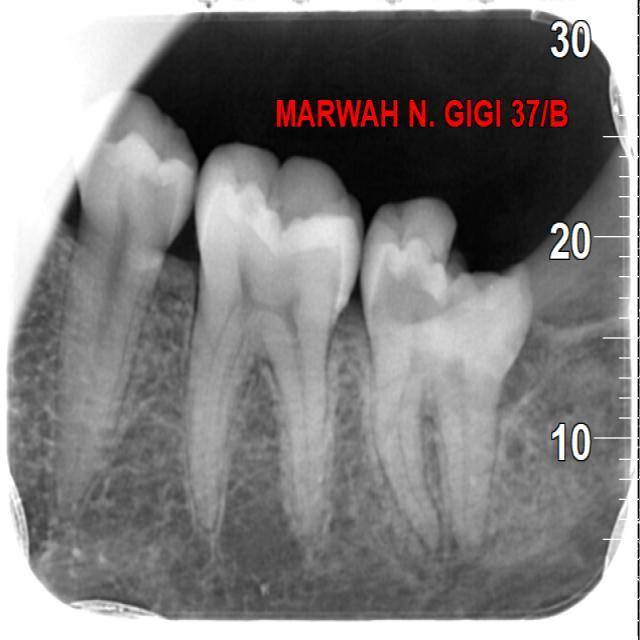individual-tooth-8tto: (187, 146, 362, 540), (364, 197, 547, 546), (59, 85, 189, 510)
